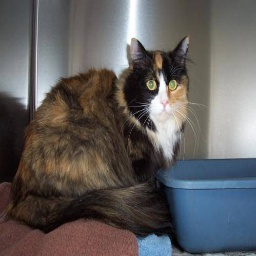cat: (12, 34, 201, 233)
